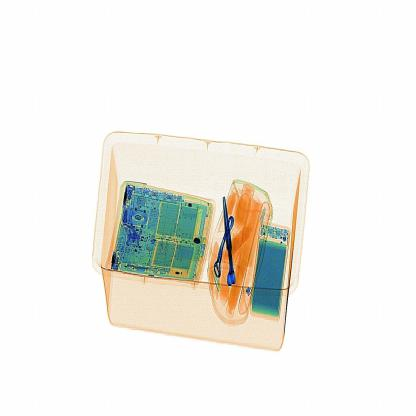gun: (211, 185, 246, 292)
